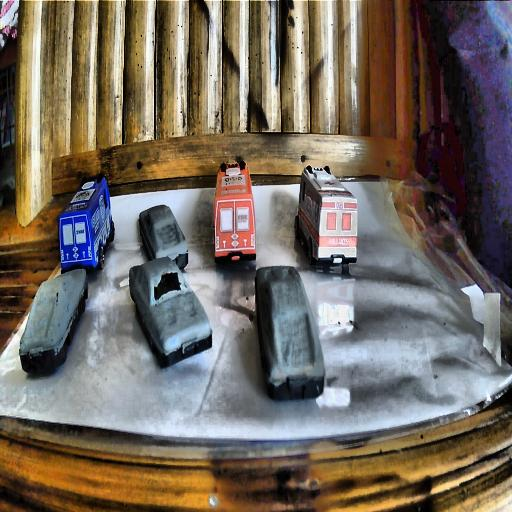ambulance: (294, 164, 356, 266)
fire_truck: (213, 161, 257, 266)
normal_car: (254, 263, 324, 403), (128, 255, 212, 369), (18, 266, 90, 376), (138, 203, 188, 270)
police car: (58, 173, 114, 274)
